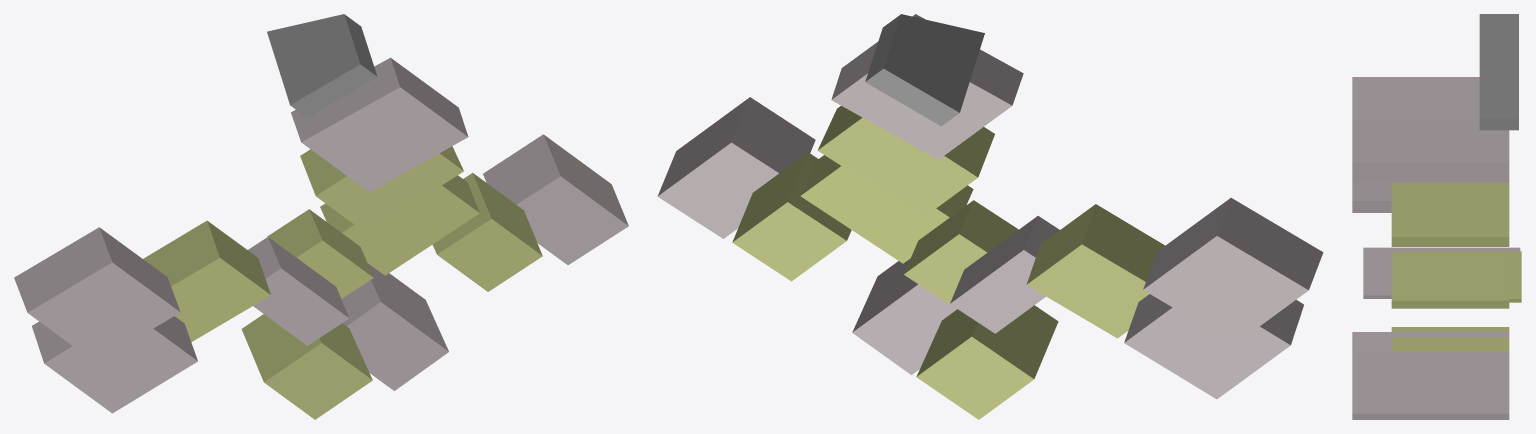
3 views of the same model, side by side, from view 1: azimuth 30°, elevation 25°; view 2: azimuth 150°, elevation 25°; view 3: azimuth 270°, elevation 25° (orthographic). The views are drawn at different scales.
Parts seen in each view (by area): view 1: 0_1_3_2_2_2_2_0_3; view 2: 0_1_3_2_2_2_2_0_3; view 3: 0_1_3_2_2_2_2_0_3.
Boxes of the visible parts, <box> form: 0_1_3_2_2_2_2_0_3: <box>14,14,628,419</box>; 0_1_3_2_2_2_2_0_3: <box>657,14,1323,419</box>; 0_1_3_2_2_2_2_0_3: <box>1352,14,1521,419</box>.
Bounding box in the file's own units: 55.47 × 33.55 × 12.94.
